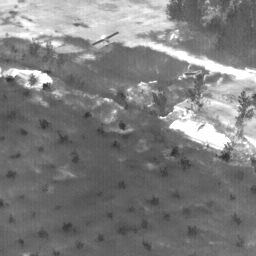aircraft: (102, 36, 104, 38)
